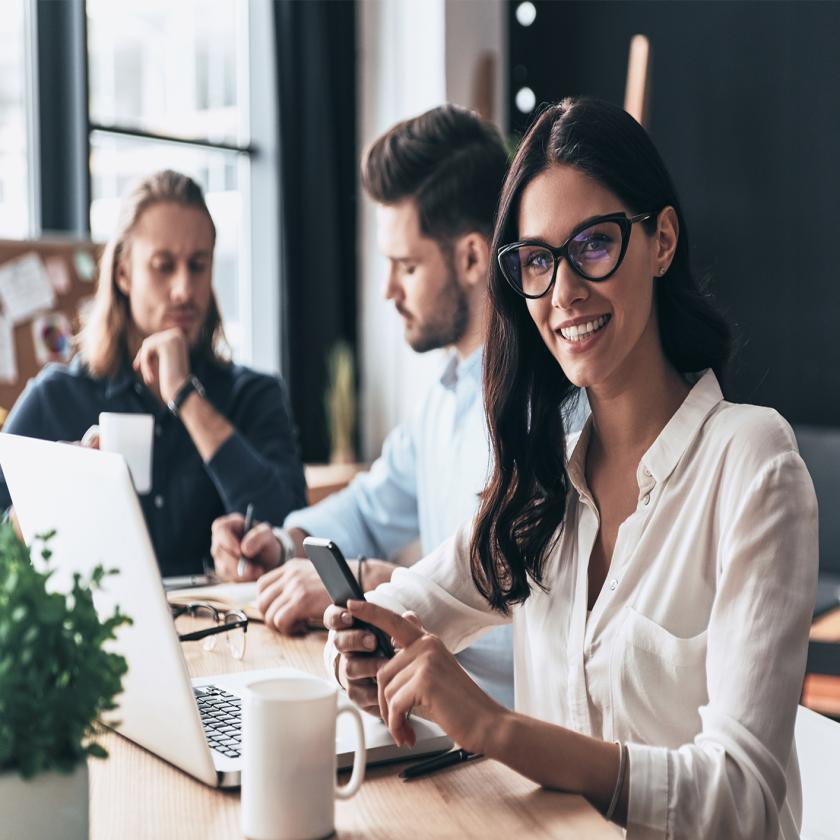Sin_casco: (486, 80, 690, 393), (357, 69, 515, 366), (104, 157, 228, 379)
